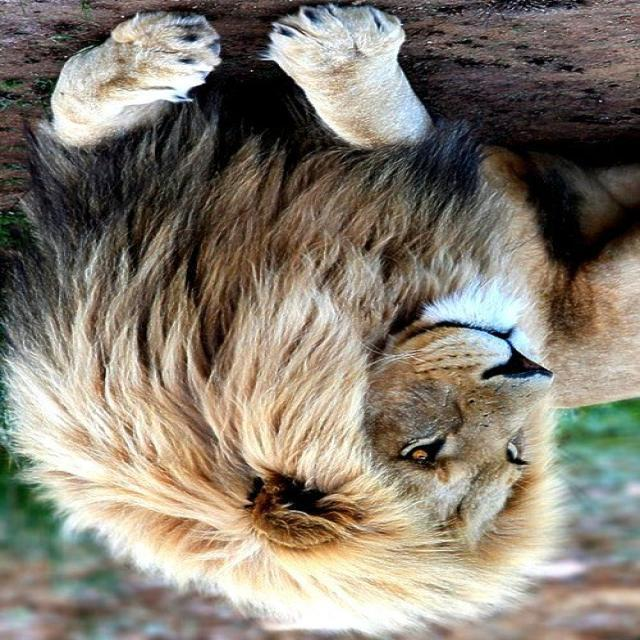lions: (0, 7, 640, 640)
